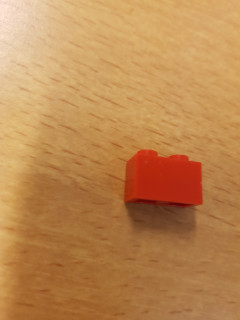1x2 red: (124, 149, 204, 210)
